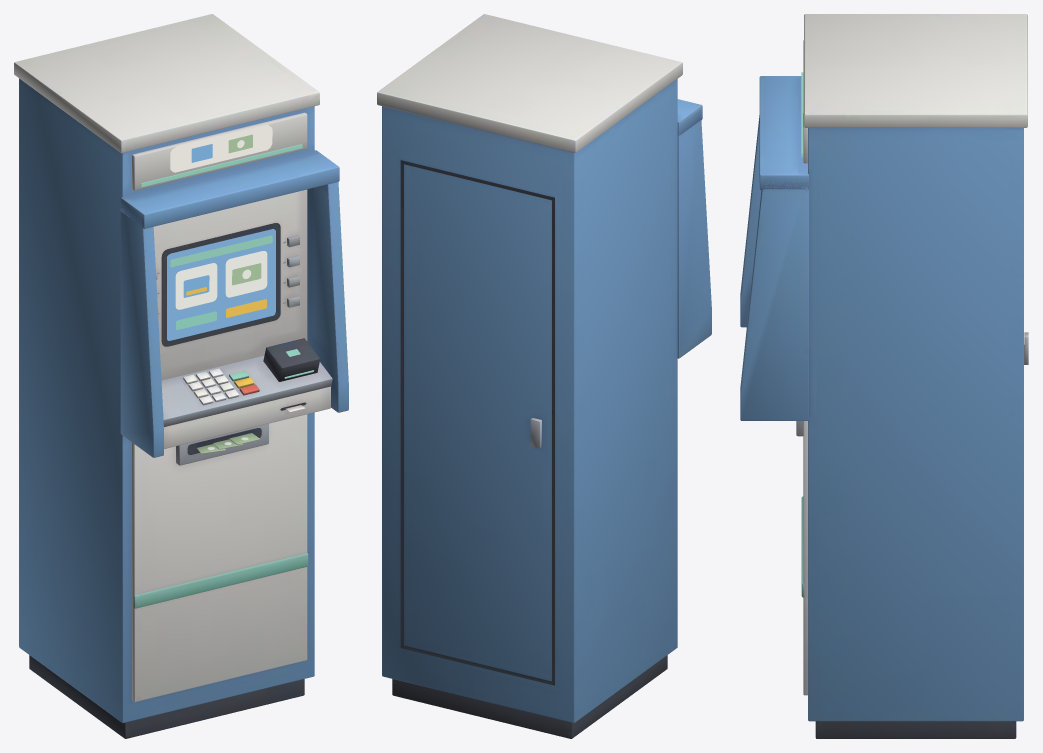
File: atm.glb
3 views of the same model, side by side, from view 1: azimuth 30°, elevation 25°; view 2: azimuth 150°, elevation 25°; view 3: azimuth 270°, elevation 25° (orthographic). The views are drawn at different scales.
Parts seen in each view (by area): view 1: atm_body, atm_info_screen; view 2: atm_body; view 3: atm_body.
Boxes of the visible parts, x1,y1,x2,y2 form: atm_body: [14, 14, 348, 738]; atm_info_screen: [140, 124, 313, 378]; atm_body: [377, 14, 711, 738]; atm_body: [740, 14, 1028, 738].
Bounding box in the file's own units: 0.62 × 1.8 × 0.747.
2 materials, 2 textured.
